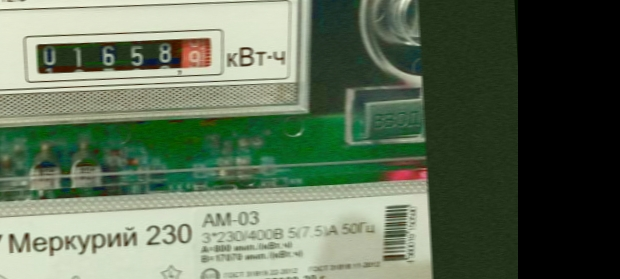0: (42, 44, 56, 66)
1: (72, 45, 83, 68)
5: (129, 43, 144, 67)
6: (100, 44, 115, 66)
8: (157, 41, 172, 63)
9: (185, 48, 201, 70)
screen: (17, 19, 232, 91)
